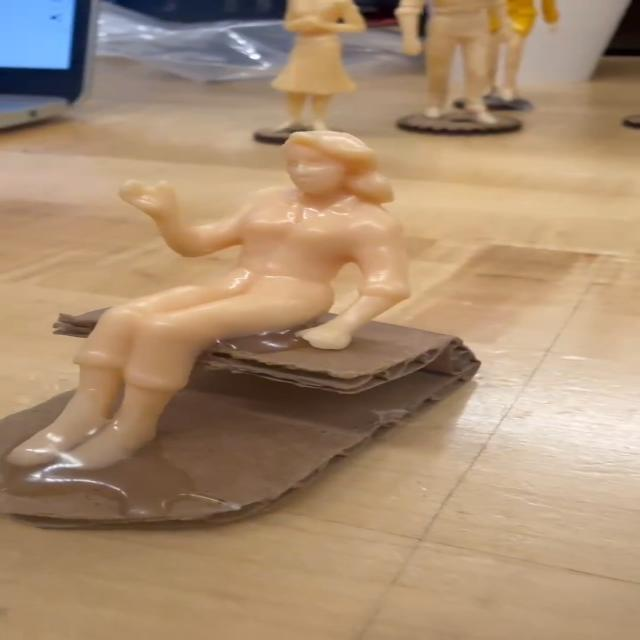Unauthorized: (28, 132, 404, 475)
